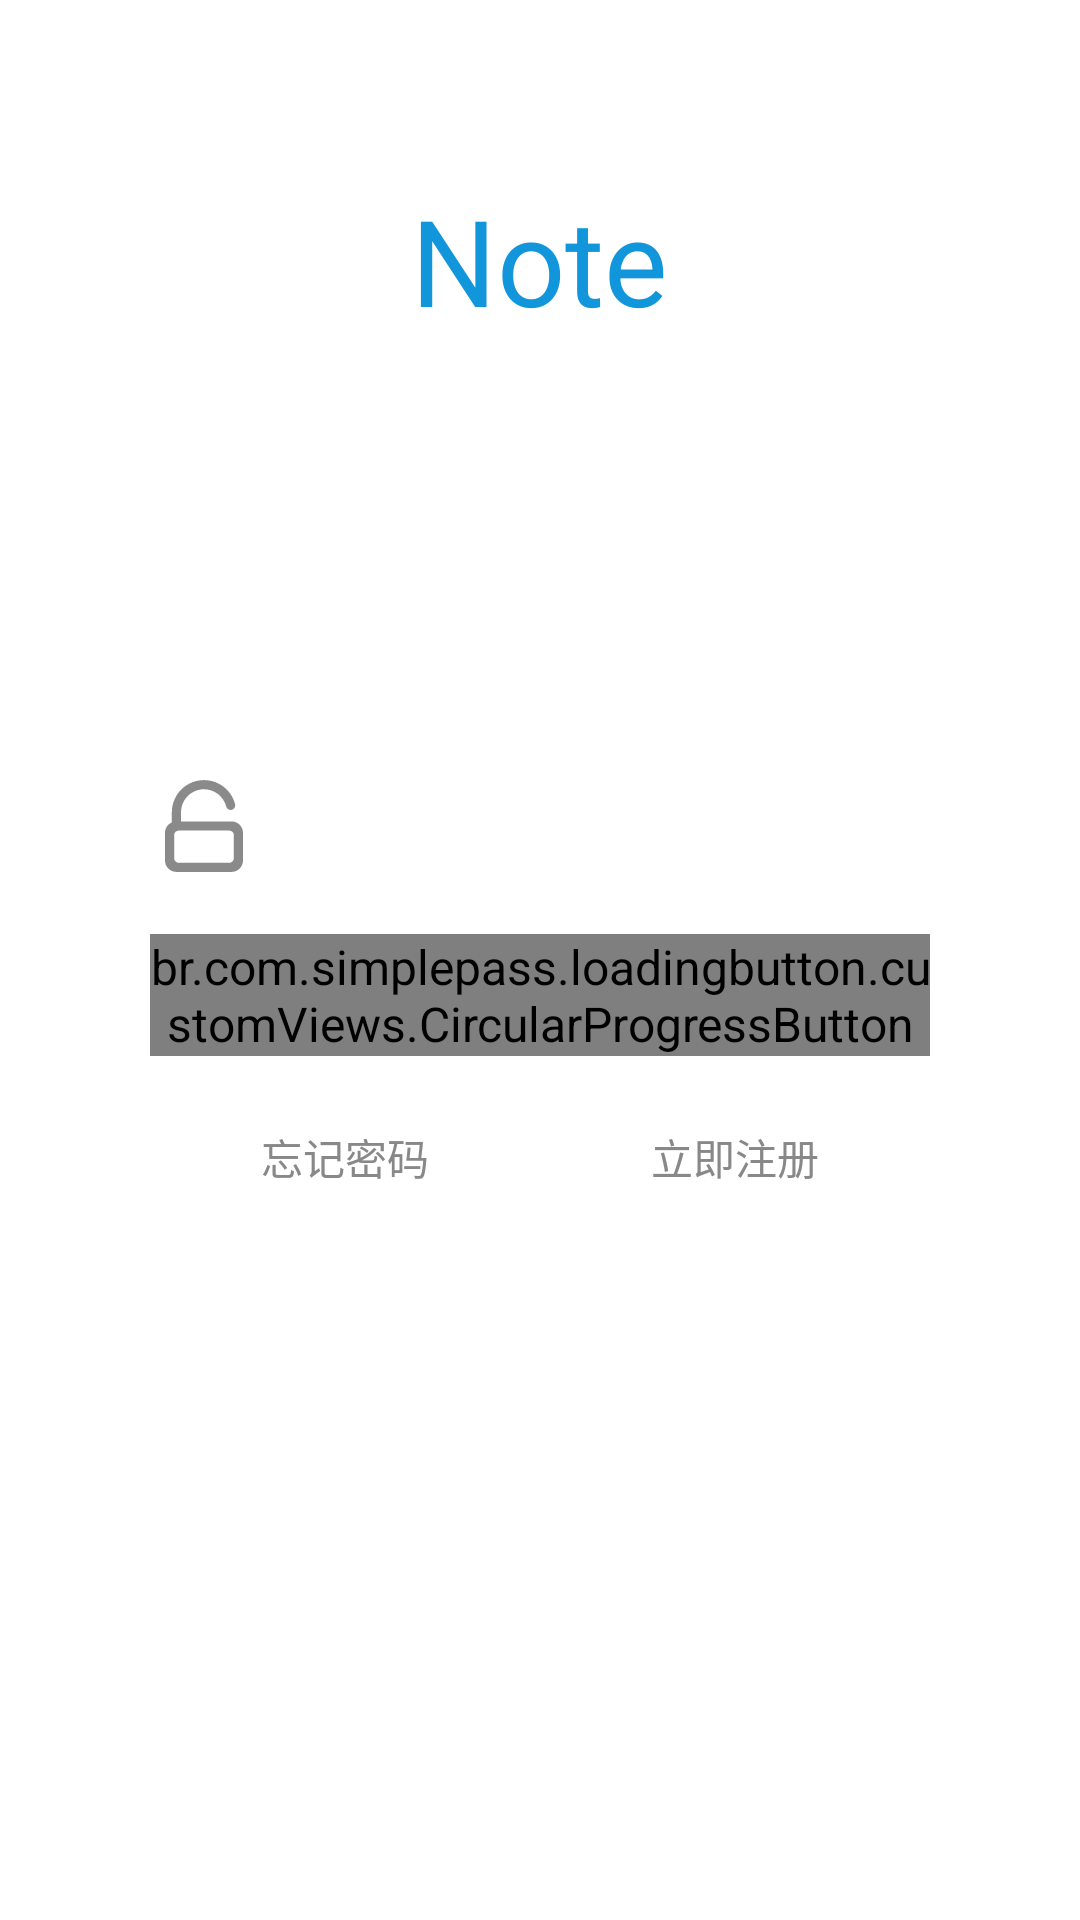

Screen size 1080px x 1920px. Icon name, then its box in pixels as (x1, y1, x2, y2):
password: (165, 780, 243, 872)
